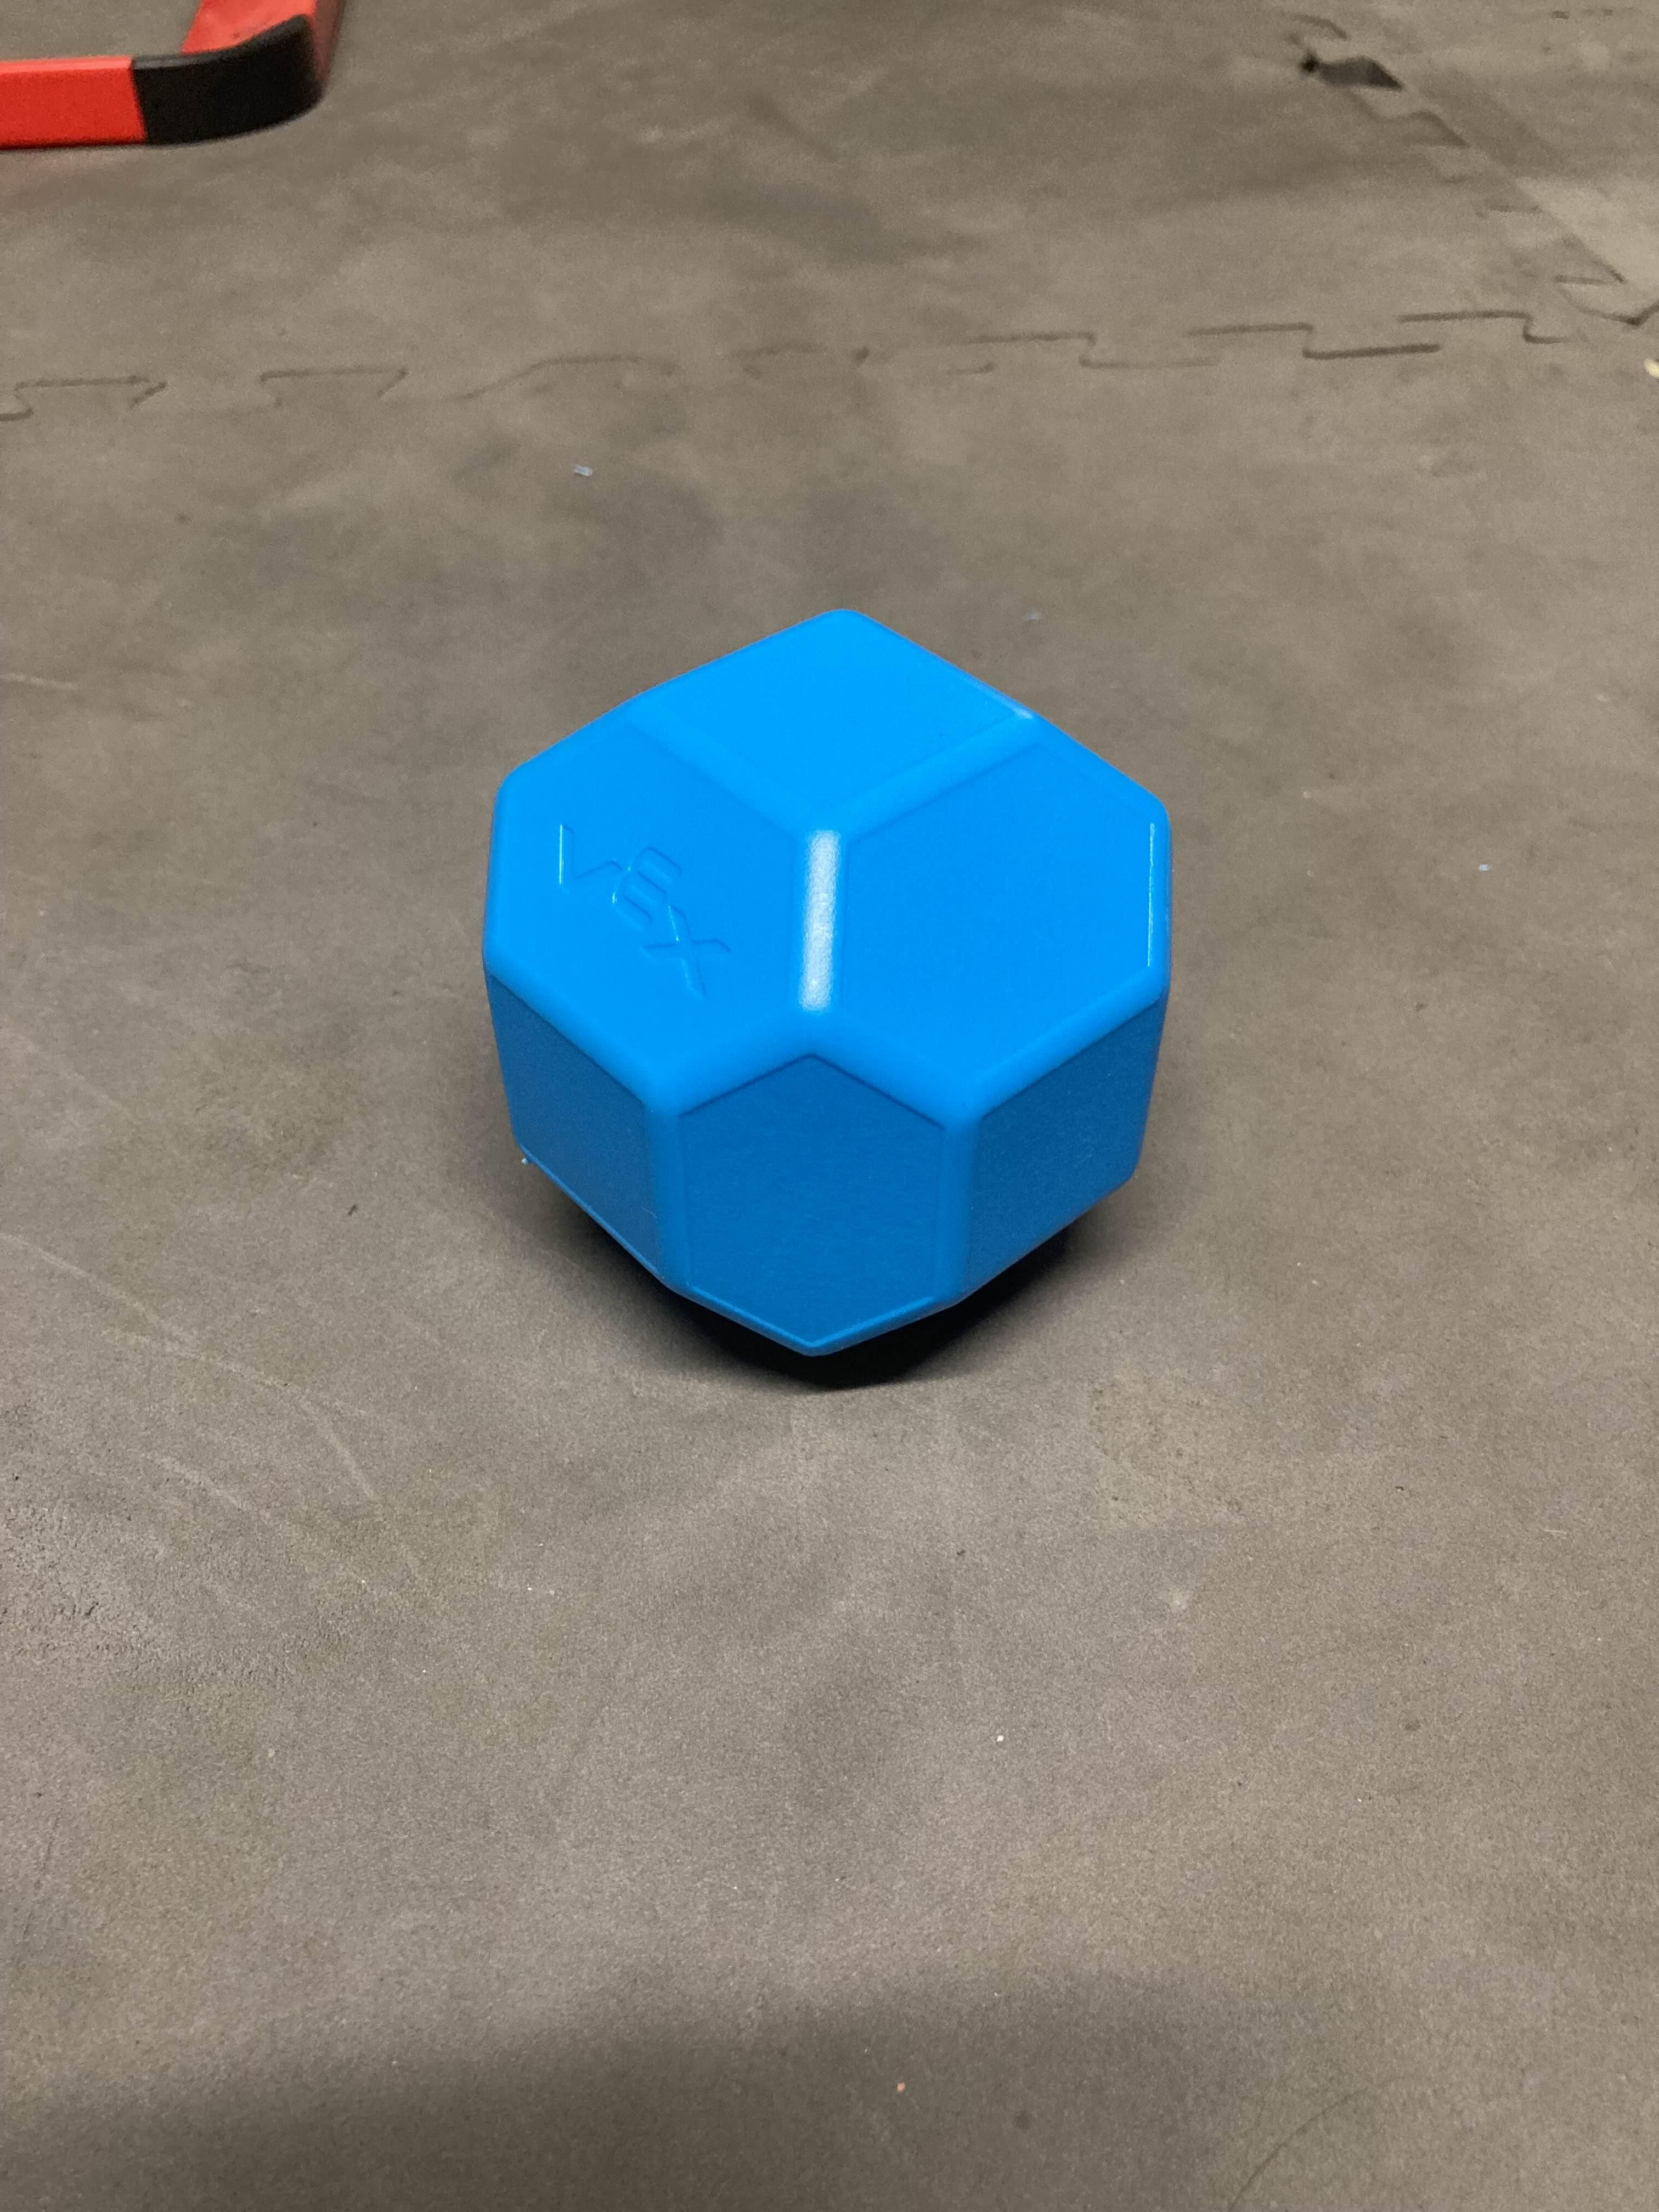Vex-Pieces-BLUE: (477, 610, 1175, 1369)
